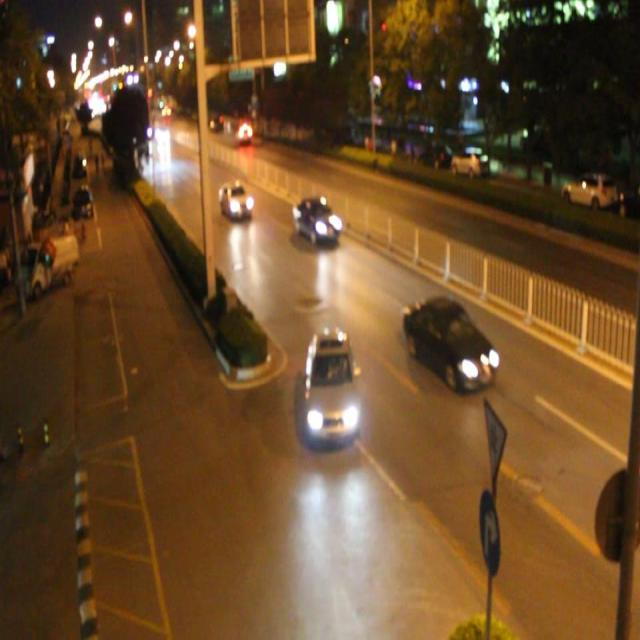car: (403, 295, 497, 395), (302, 326, 359, 448), (294, 196, 342, 247), (219, 182, 253, 220), (235, 120, 254, 142)
